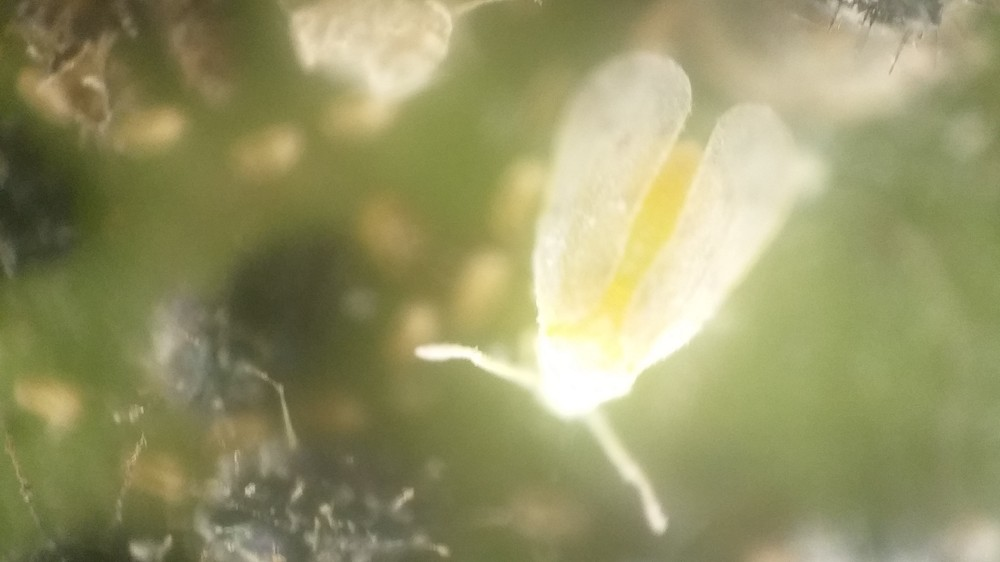Mosca Blanca: (399, 43, 833, 541)
